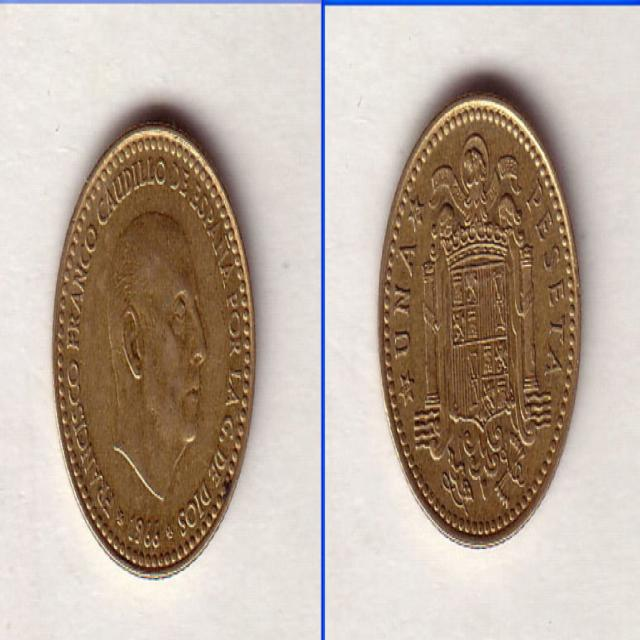Coin: (51, 120, 257, 576), (379, 106, 581, 549)
